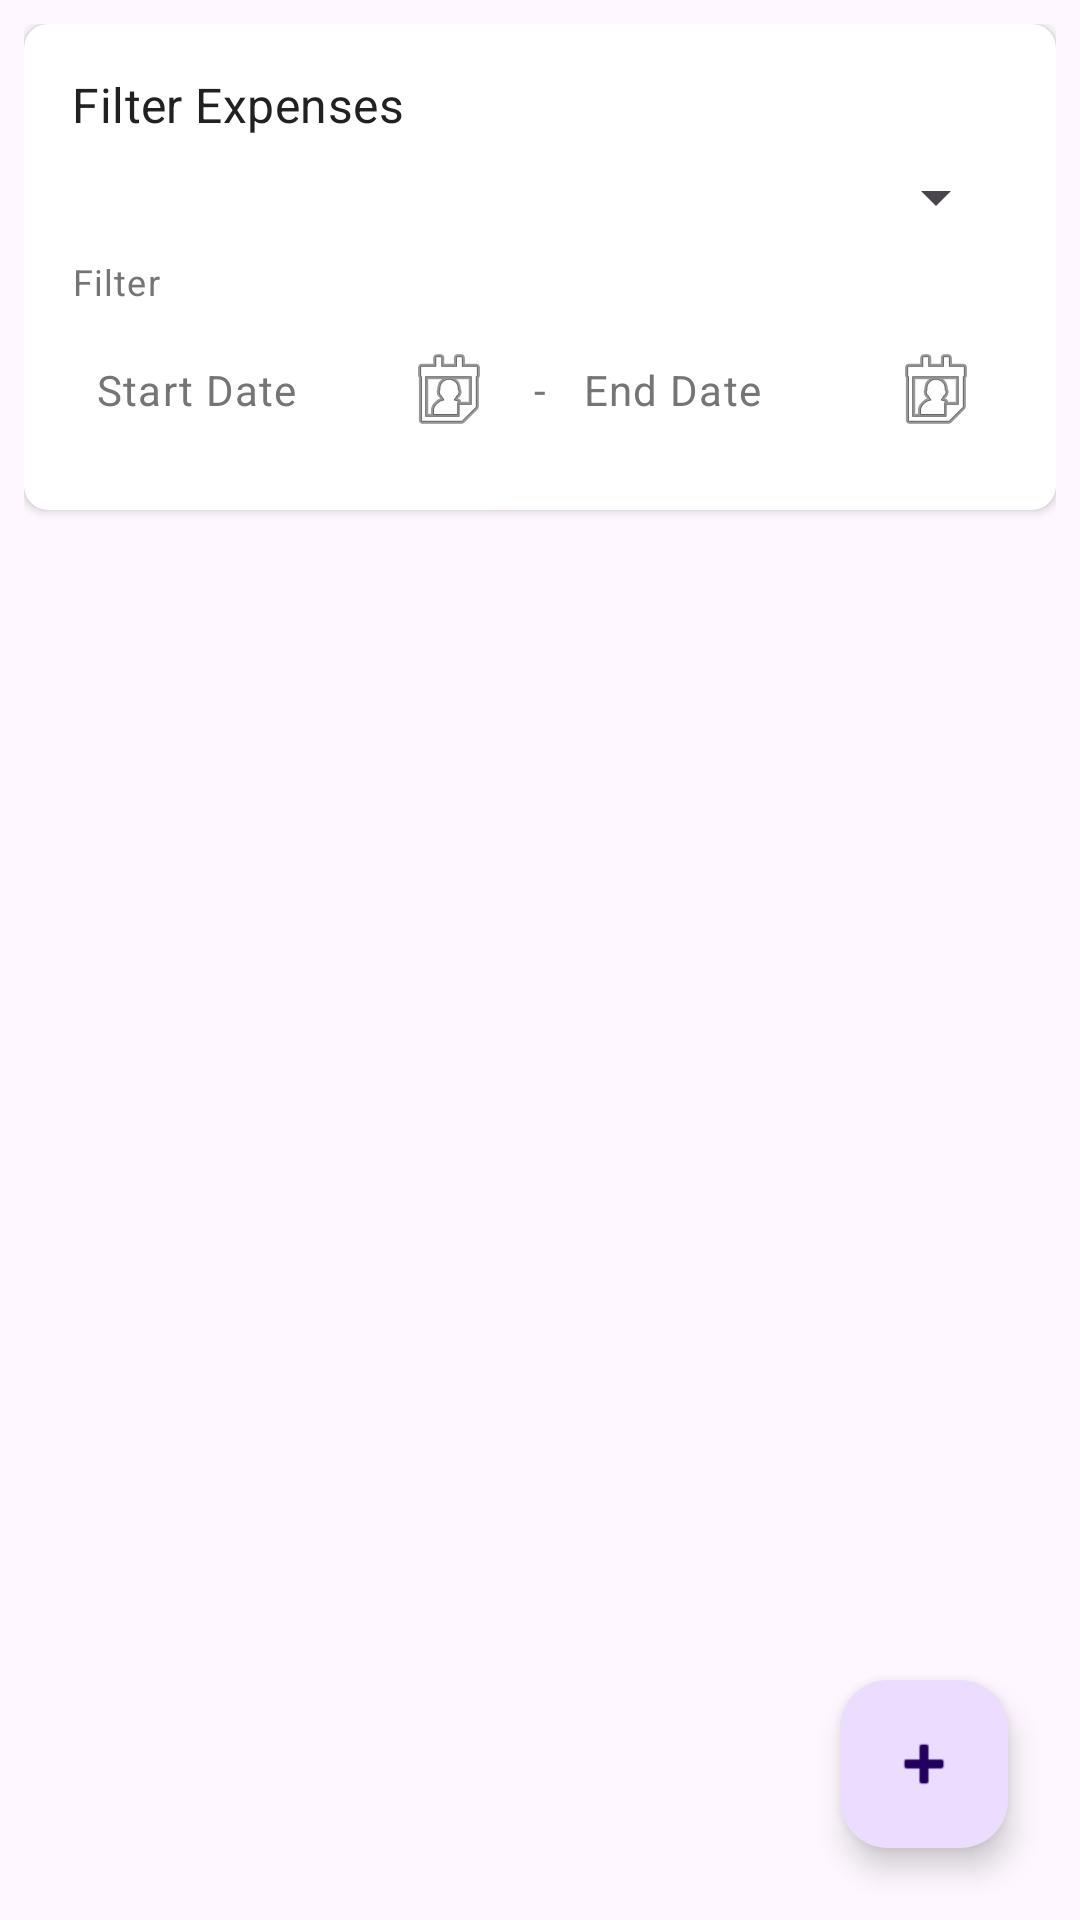

Icon click points for this 1080 x 1920 phone screenshot, format point (x, y):
Add Expense: point (924, 1764)
